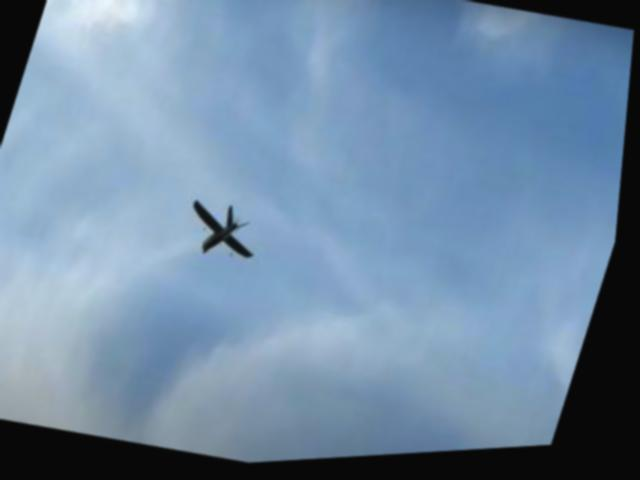uav: (180, 191, 276, 275)
